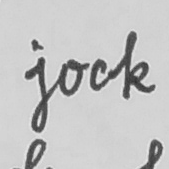c: (87, 56, 111, 92)
j: (21, 54, 52, 135)
k: (118, 29, 158, 101)
o: (56, 57, 85, 97)
